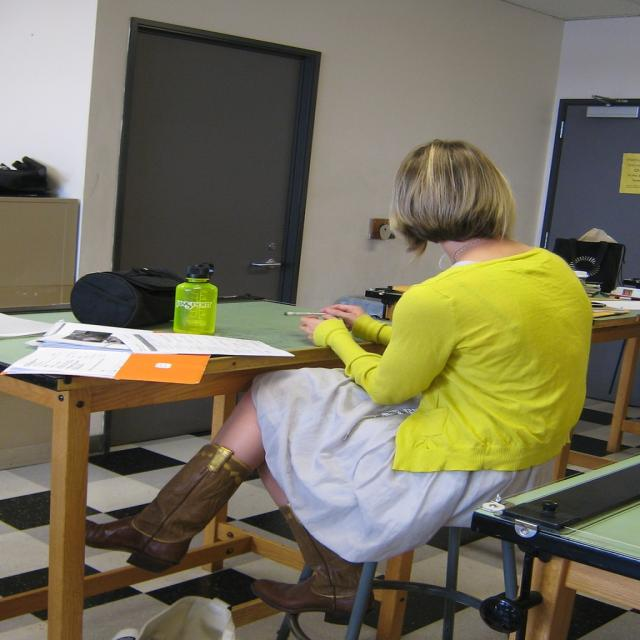desk: (0, 296, 416, 640)
person: (88, 140, 601, 630)
